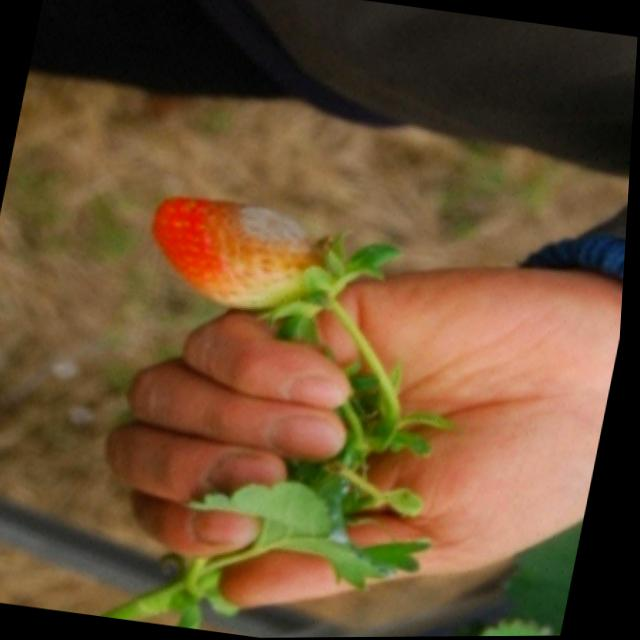Gray Mold: (206, 203, 315, 266)
